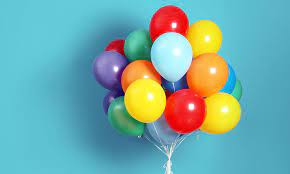Balloon: (150, 31, 193, 81), (165, 89, 207, 134), (124, 78, 166, 123), (187, 52, 228, 94), (200, 94, 241, 136), (92, 51, 130, 89)
